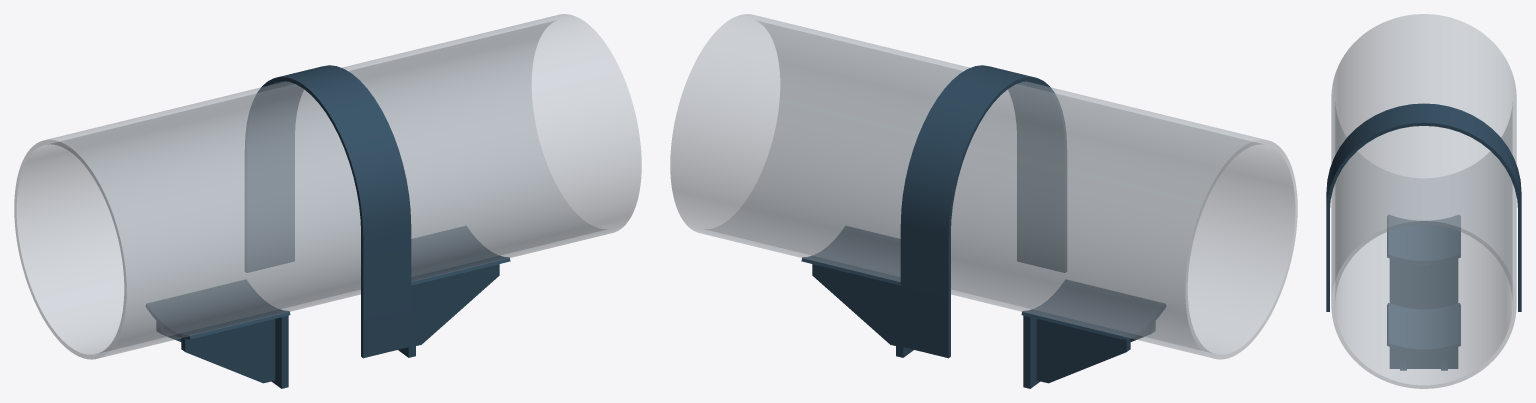
Rendered from TS-669.00.00-05-opora-dn325-ris1.glb.
3 renders of one model, left to right at view 1: azimuth 30°, elevation 25°; view 2: azimuth 150°, elevation 25°; view 3: azimuth 270°, elevation 25°, orthographic. The views are drawn at different scales.
Parts seen in each view (by area): view 1: truba, homut_9, upor_8, upor_6, upor_4, upor_2, upor_5; view 2: truba, homut_9, upor_8, upor_7, upor_4, upor_3, upor_5; view 3: truba, homut_9, upor_4, upor_8, upor_5, upor_1.
Part boxes in pixels (box(x1,y1,x2,y2)): truba: box(14, 14, 641, 359); homut_9: box(245, 65, 411, 358); upor_8: box(146, 280, 290, 339); upor_6: box(181, 319, 275, 383); upor_4: box(411, 226, 510, 285); upor_2: box(416, 264, 499, 345); upor_5: box(271, 315, 288, 388); truba: box(670, 14, 1297, 359); homut_9: box(900, 65, 1066, 358); upor_8: box(1021, 280, 1165, 339); upor_7: box(1036, 319, 1130, 383); upor_4: box(801, 226, 900, 285); upor_3: box(812, 264, 895, 345); upor_5: box(1023, 315, 1040, 388); truba: box(1331, 14, 1516, 388); homut_9: box(1326, 103, 1521, 311); upor_4: box(1387, 303, 1460, 352); upor_8: box(1387, 215, 1460, 263); upor_5: box(1389, 258, 1458, 309); upor_1: box(1389, 347, 1458, 368).
Size of the model in its own units: 859 by 443 by 342.
